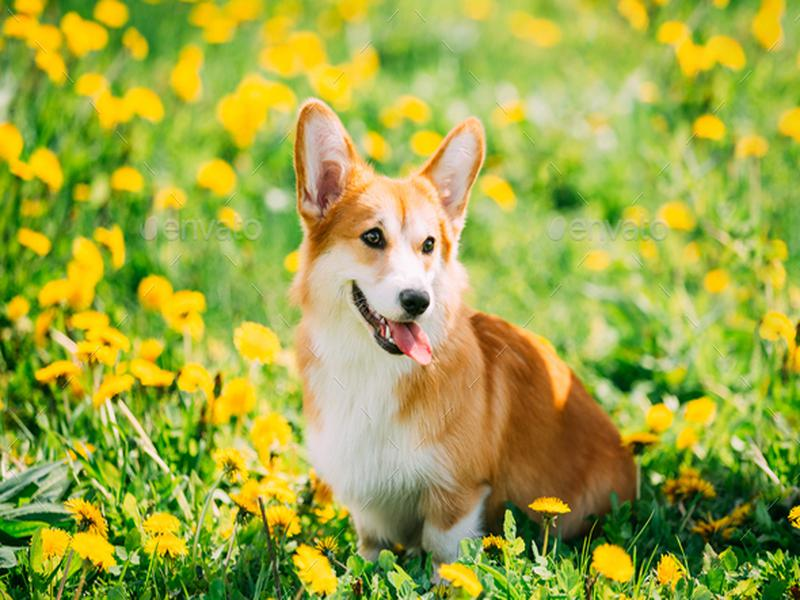corgi: (290, 94, 488, 370)
